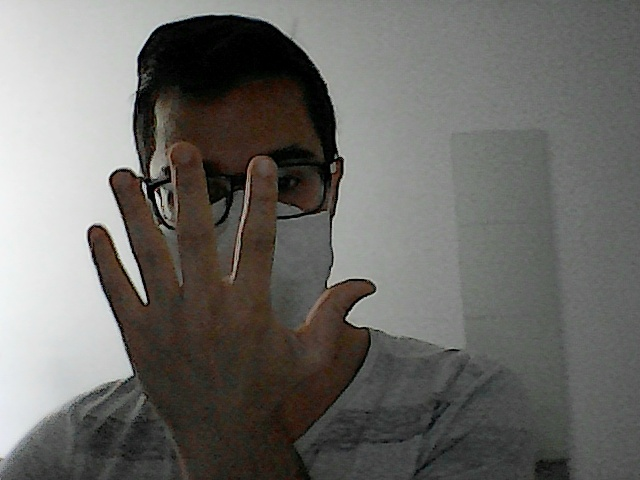jump: (80, 135, 382, 412)
